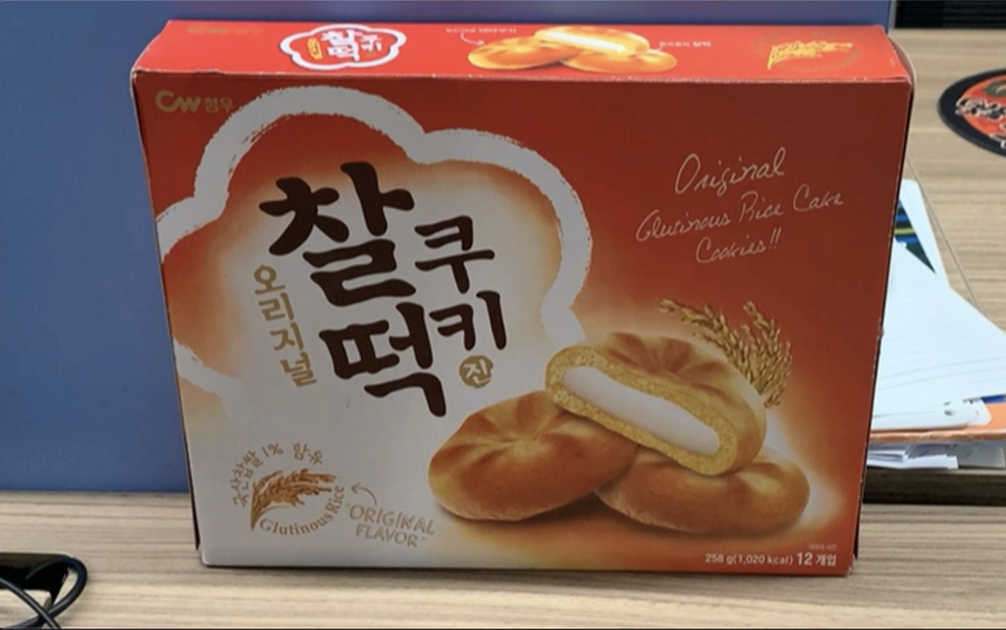cookies_150g: (187, 108, 848, 569)
